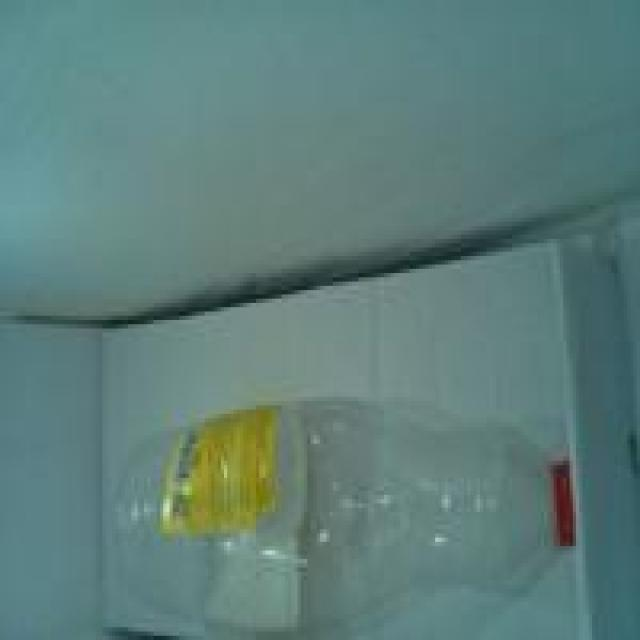bottle: (107, 384, 582, 640)
